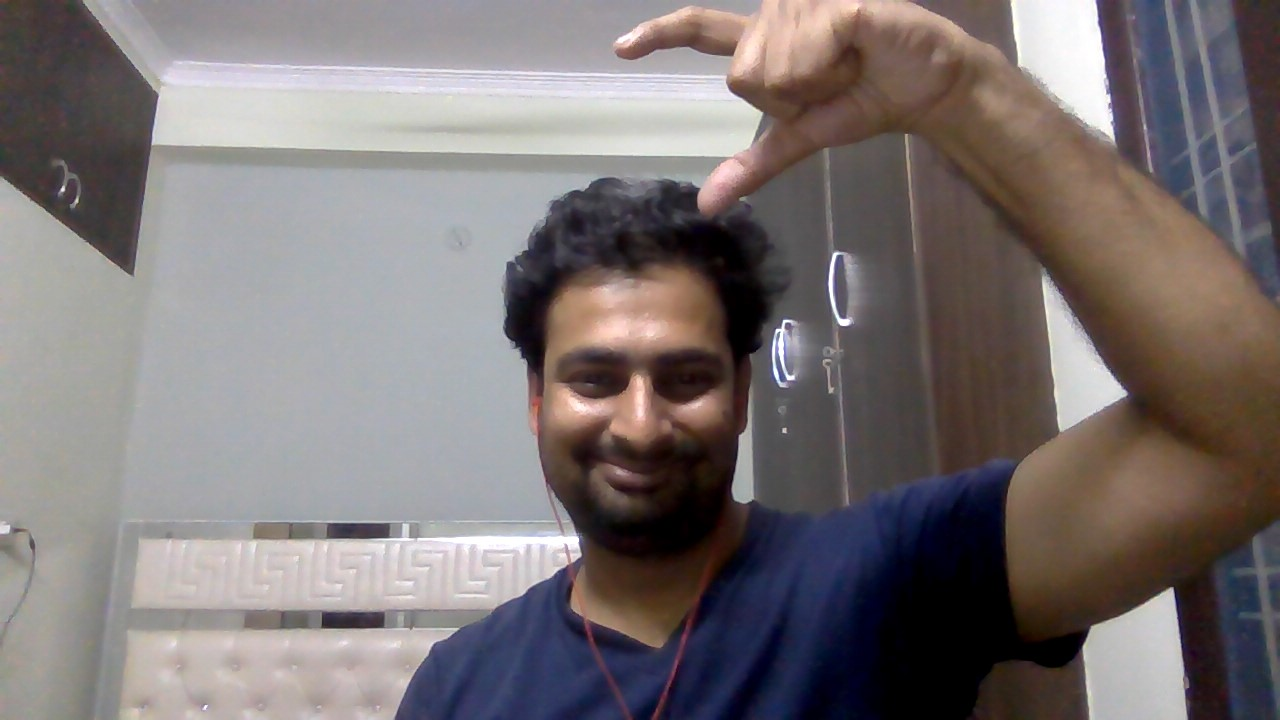Paste: (599, 4, 991, 230)
